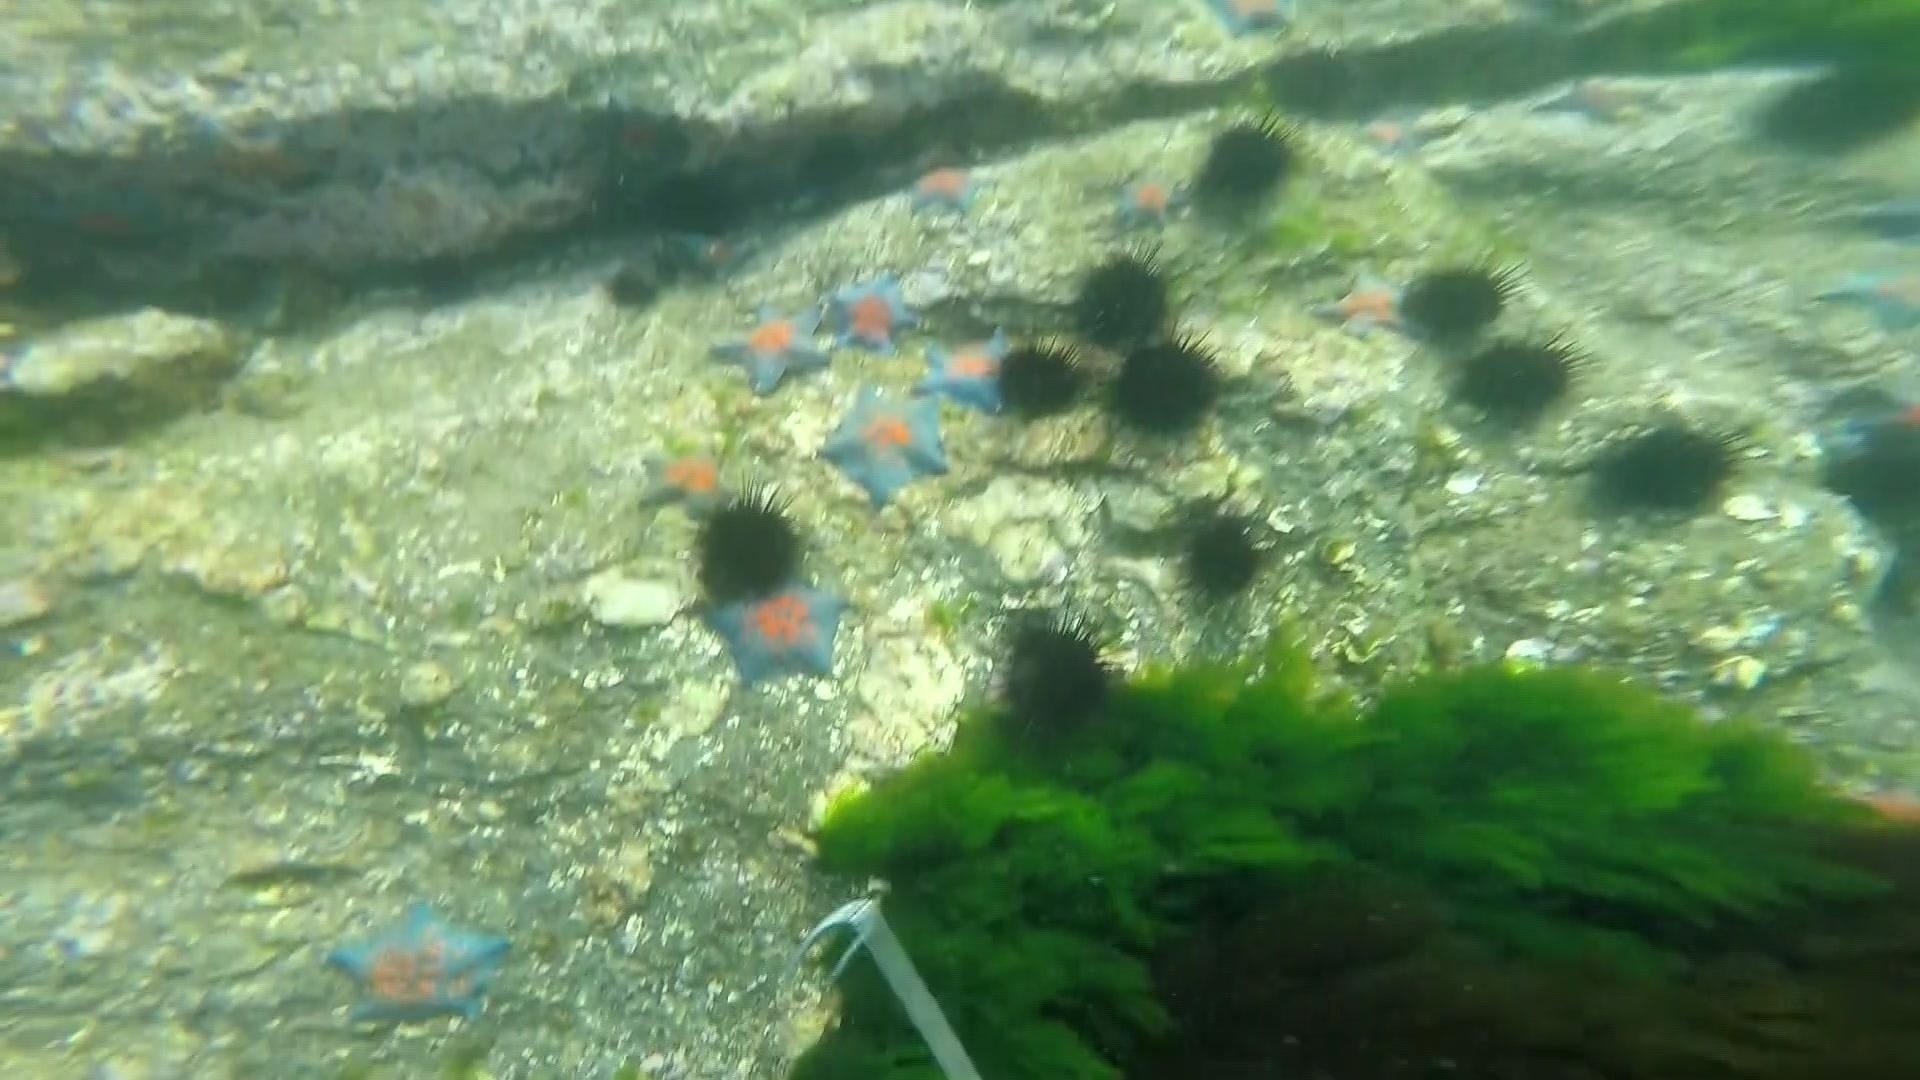echinus: (1582, 411, 1756, 526), (989, 607, 1124, 748), (1101, 328, 1230, 447), (688, 484, 810, 605), (1451, 326, 1588, 433), (576, 95, 698, 200), (1065, 245, 1182, 351), (1396, 253, 1520, 349), (1189, 112, 1302, 218), (1171, 505, 1273, 607), (992, 335, 1092, 427), (1259, 42, 1361, 127), (640, 164, 741, 243), (794, 123, 872, 203), (1825, 454, 1920, 513), (597, 258, 667, 318)
starfish: (320, 893, 516, 1035), (162, 105, 338, 215), (22, 156, 186, 272), (700, 574, 855, 691), (818, 382, 956, 510), (705, 295, 836, 400), (632, 429, 738, 526), (815, 262, 922, 359), (914, 322, 1021, 418), (1805, 253, 1919, 340), (1309, 258, 1415, 343), (1530, 69, 1663, 132), (1346, 98, 1466, 167), (1842, 388, 1920, 487), (897, 157, 998, 225), (1101, 162, 1189, 237), (673, 223, 766, 287), (1196, 1, 1302, 47), (1849, 194, 1920, 248)
